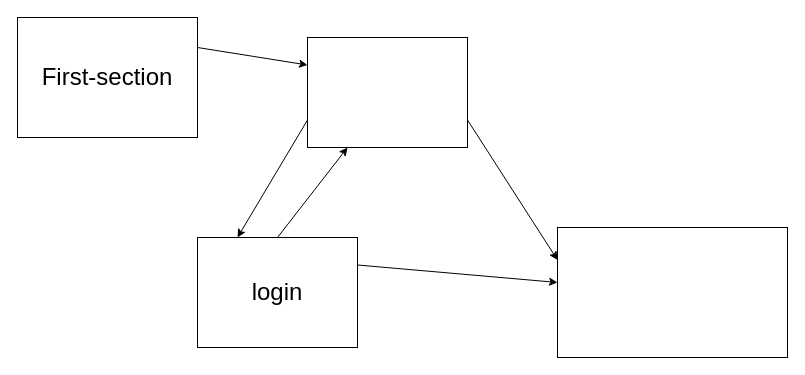
Some shapes in this 805 by 375 pixel diagram are drawn without their labels. The shapes that lost their labels are listed below. From the top down, each one's centre as x and y in pixels, then its label:
At point (387, 92): "Sign-in".
At point (672, 292): "dashboard-section".
